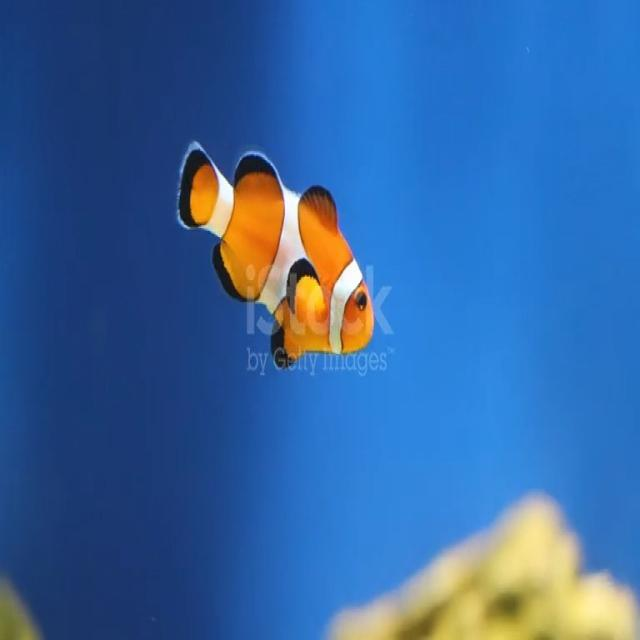fish: (175, 132, 377, 372)
